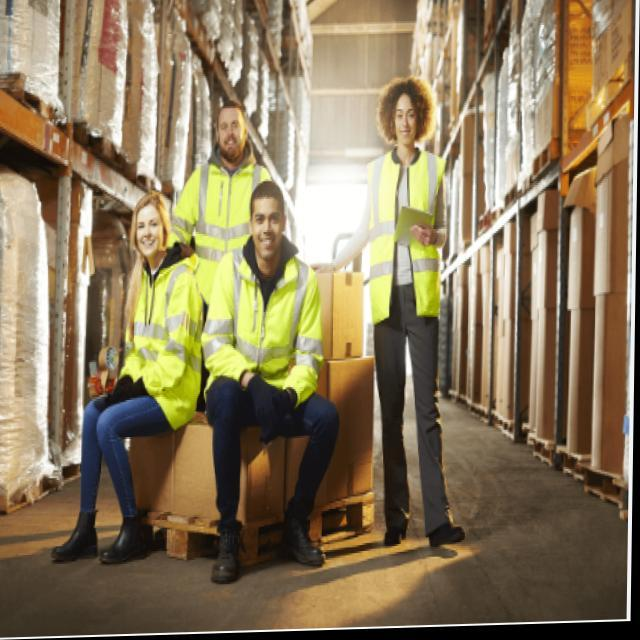boots: (212, 510, 326, 584), (49, 506, 155, 570), (381, 504, 468, 558)
vest: (206, 235, 328, 418), (171, 153, 280, 312), (363, 143, 450, 331), (118, 260, 206, 438)
